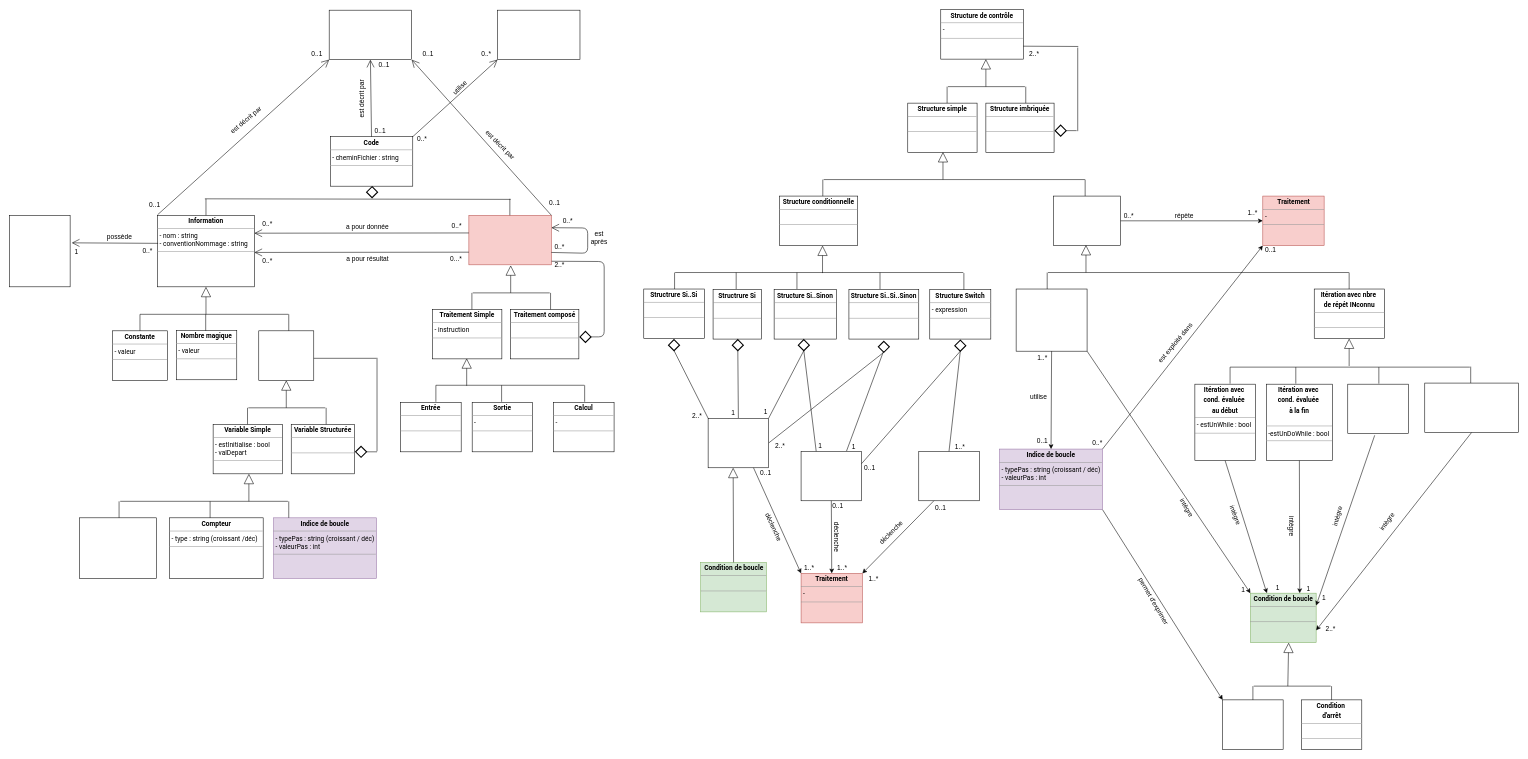
This 1528x759 diagram has some shape labels left out. The shapes that lost their labels are listed below. From the top down, each one's centre as x and y in pixels, then its label:
At point (370, 35): "Commentaire - valeur : string".
At point (538, 35): "Librairie - nom : string".
At point (509, 240): "Traitement - nom".
At point (1087, 221): "Structure itérative".
At point (39, 251): "Type - nom : string".
At point (1051, 319): "Itération avec nbre de répét connu - borneDepart - borneArrivee".
At point (286, 355): "Variable".
At point (1377, 409): "Itération avec cond. évaluée au milieu -".
At point (1471, 408): "Itération avec plusieurs cond. évaluées à des moments différents -".
At point (738, 443): "Condition Si - expression".
At point (831, 476): "Condition Sinon -".
At point (948, 476): "Condition Switch - valeurExpression".
At point (117, 547): "Accumulateur typeCumul : char (+ / -)".
At point (1252, 724): "Condition de continuation".
